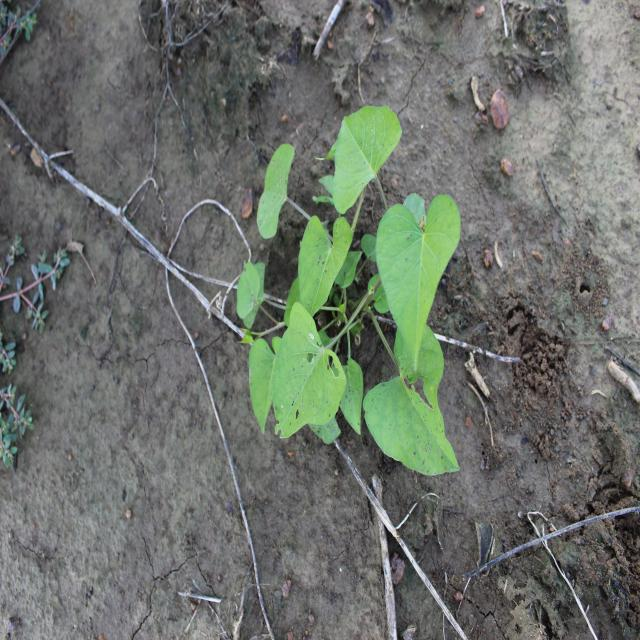MorningGlory: (236, 102, 464, 480)
SpottedSpurge: (1, 234, 72, 472)
